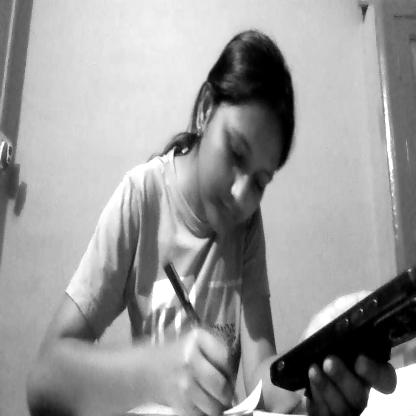Distracted: (188, 31, 302, 260)
